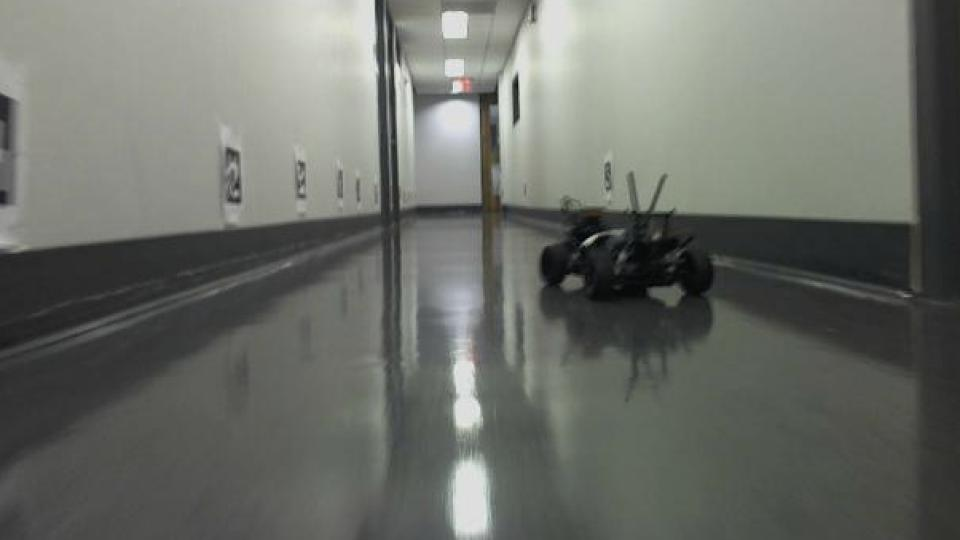car: (536, 168, 717, 305)
